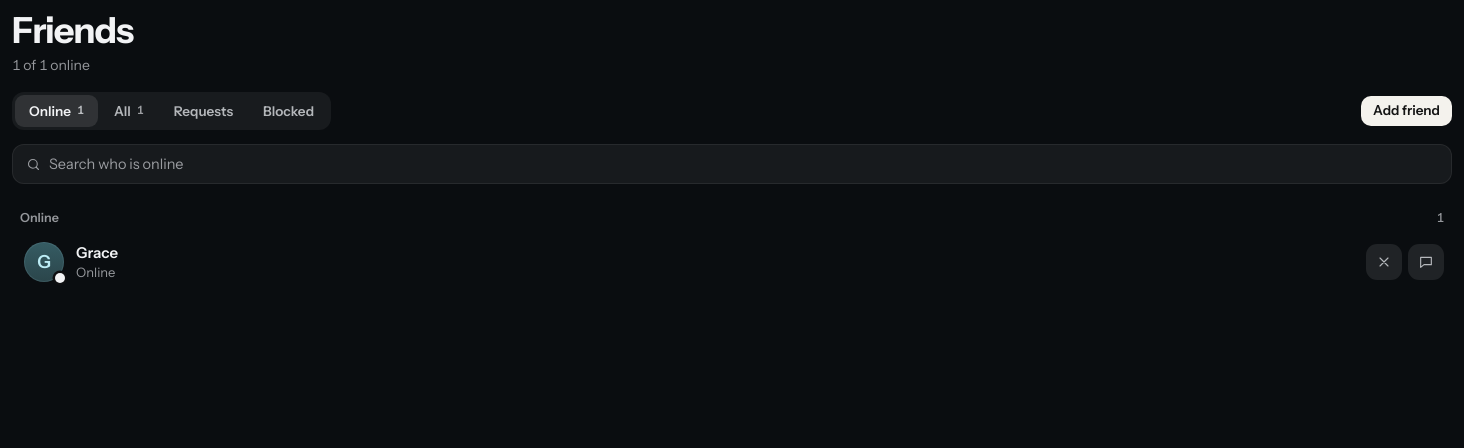
Test: FriendsPage › surfaces Add friend as a header primary action, not a filter tab
Expected: the field labelled "username or user id" is not shown
Click the button "Add friend" at coordinates (1407, 111), box [1361,96,1452,126]
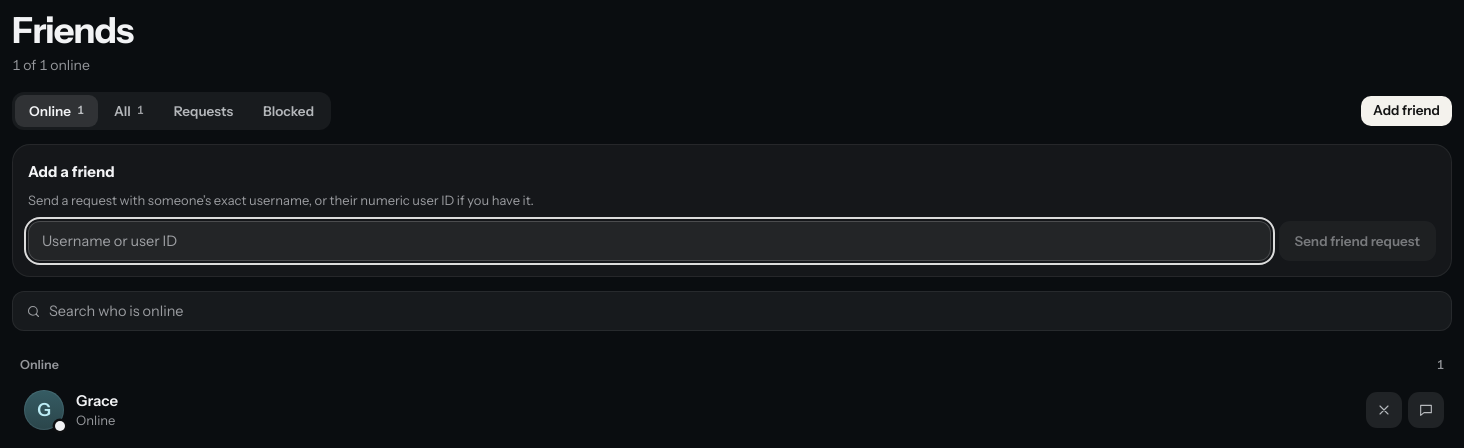
Expected: the field labelled "Username or user ID" is shown, [28,221,1271,261]
